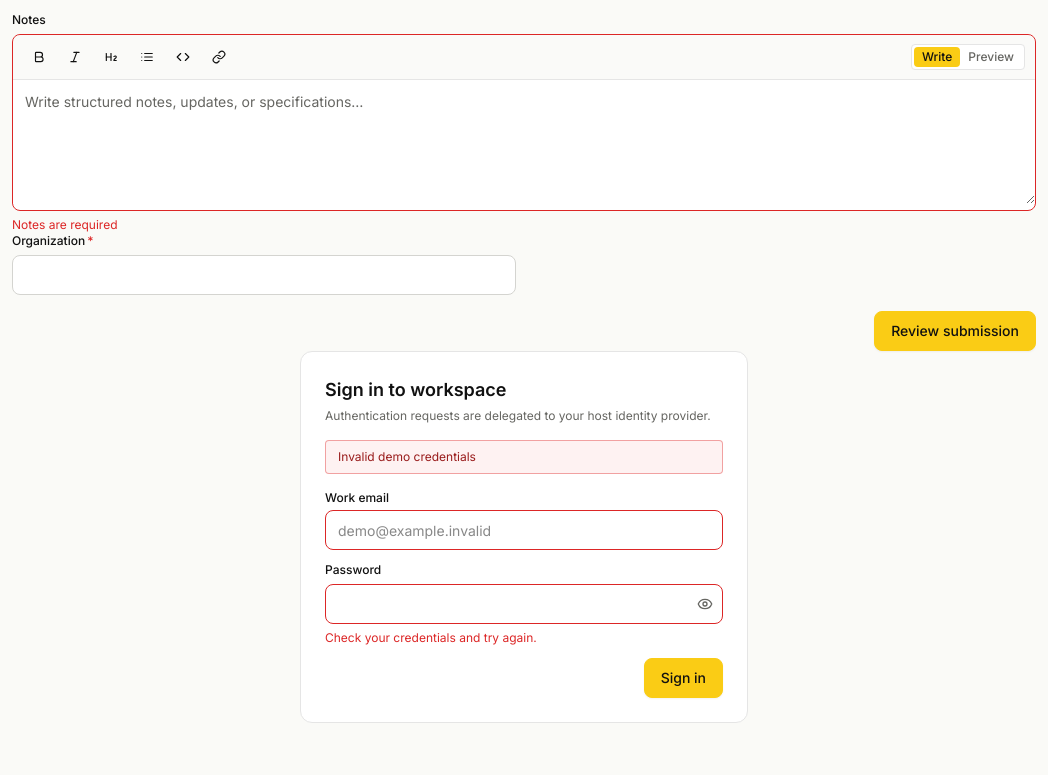
Wendoro UI 2.0 Enterprise Modules, Subpaths & A11y Hardening › links aria-invalid and aria-describedby error messages across DynamicFormBuilder, RichTextEditor, and SignInView
Expected: the message "Notes are required" is shown, [12,217,118,232]
Click the button "Review submission" at (955, 331), box [874,311,1036,351]
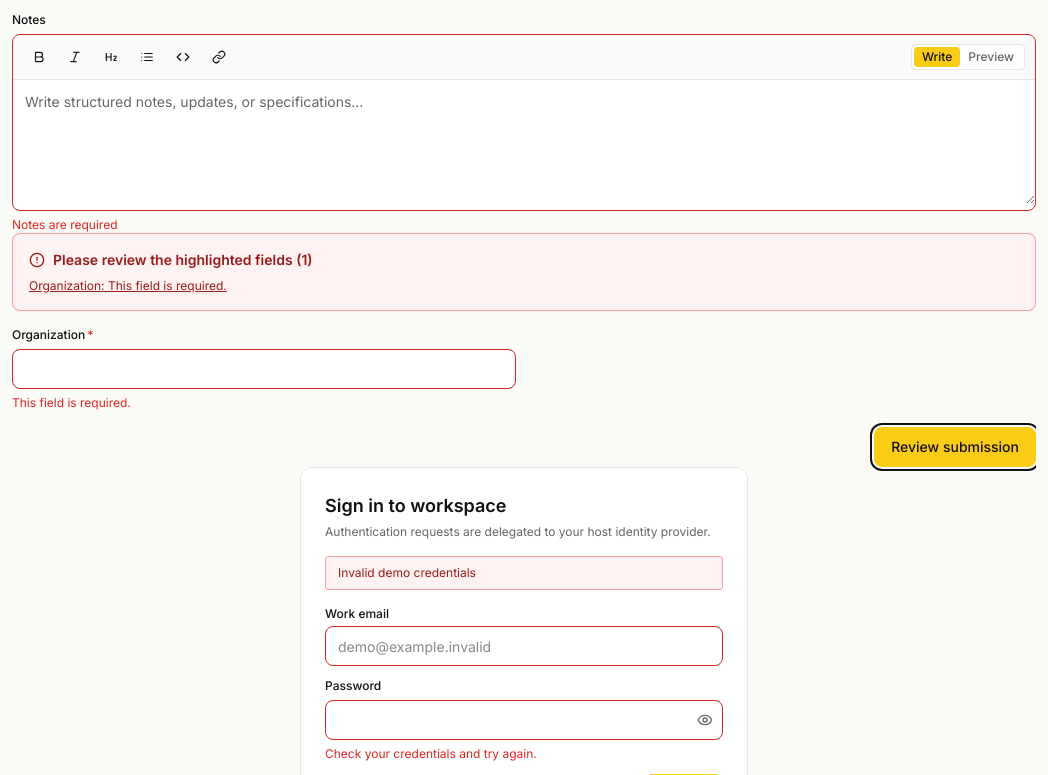
Expected: the text "This field is required." is shown, [12,395,131,410]
